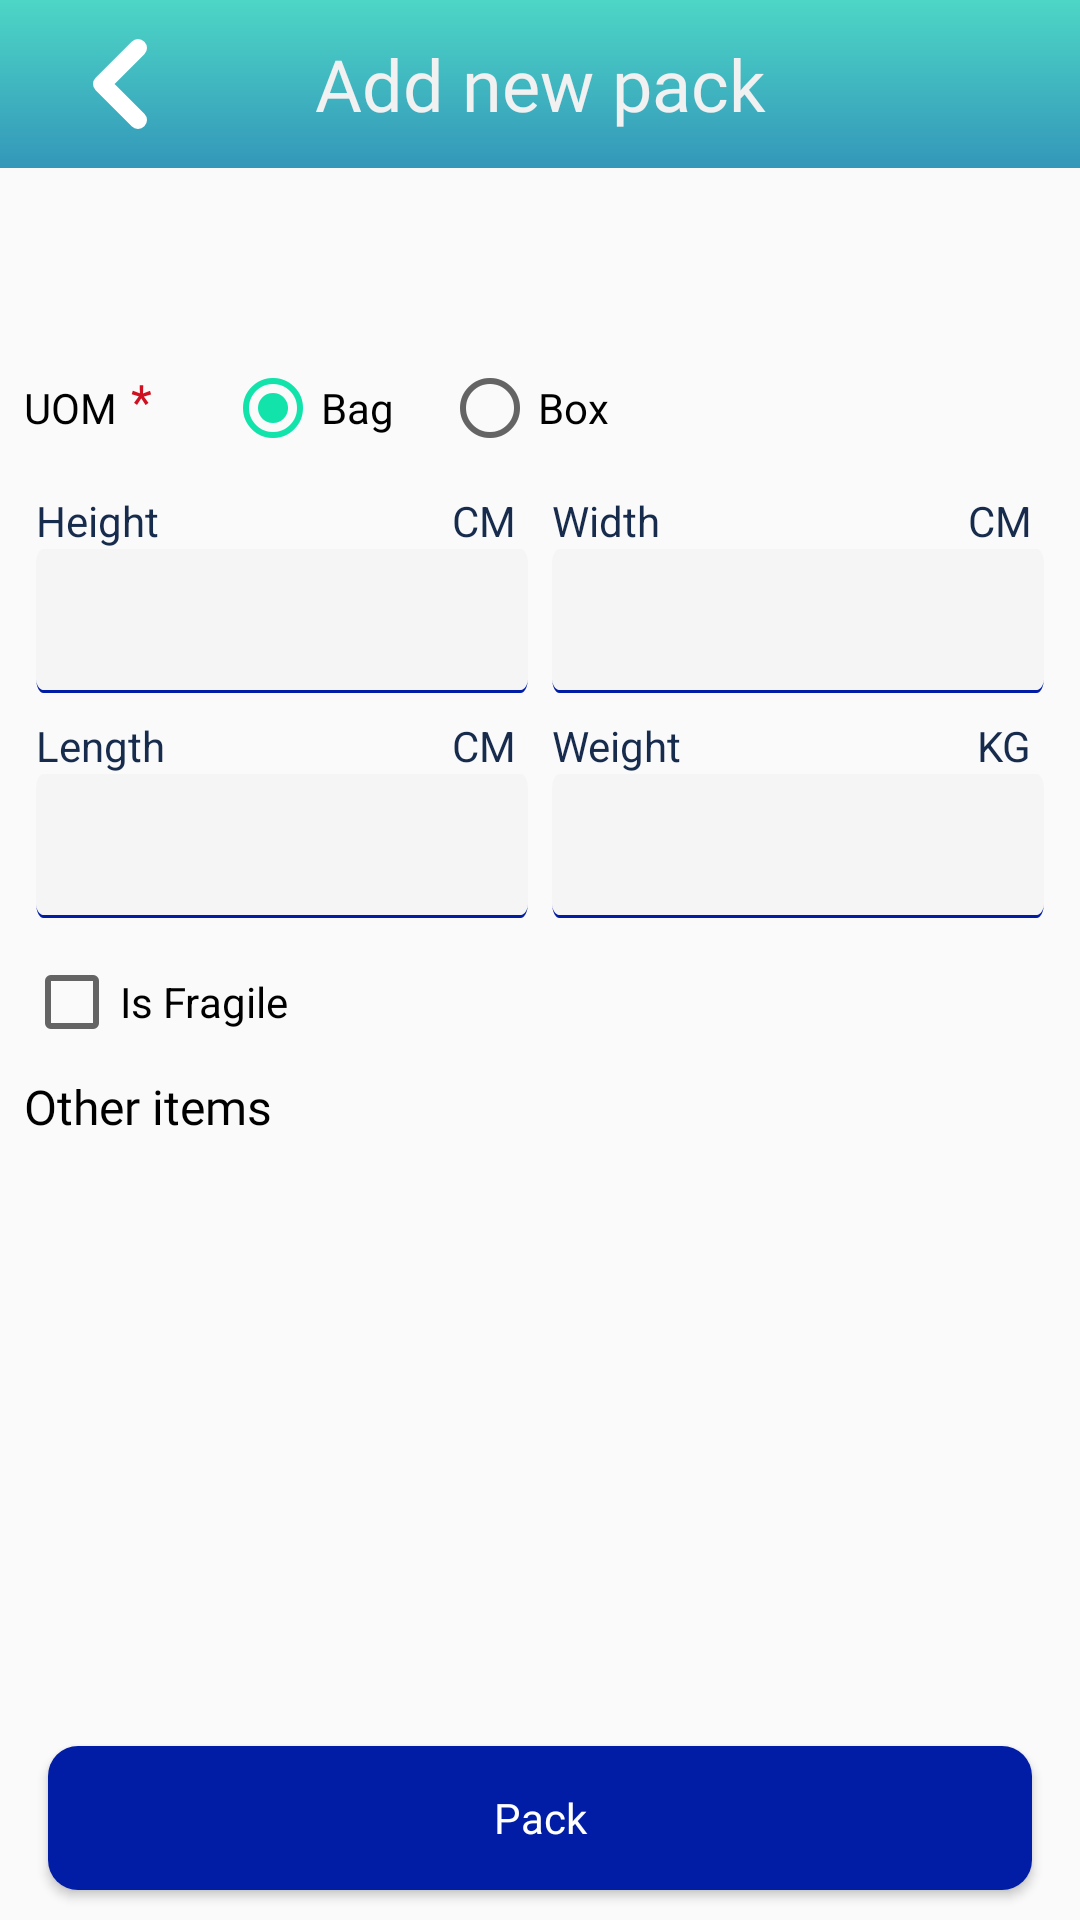

Point at icon controls on the screen. Image size 1080 x 1920, points as [x,y].
Back: [120,84]
